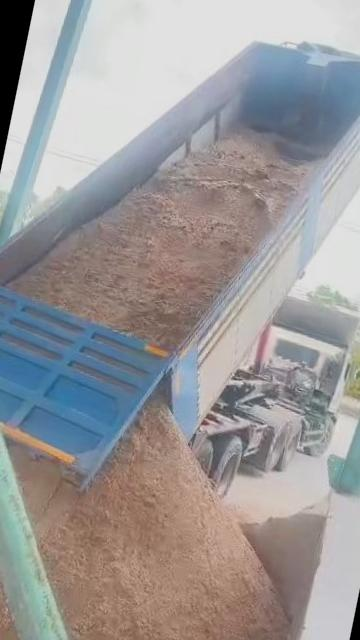sand: (11, 131, 314, 349), (15, 403, 288, 640), (229, 501, 326, 619), (0, 463, 27, 640)
